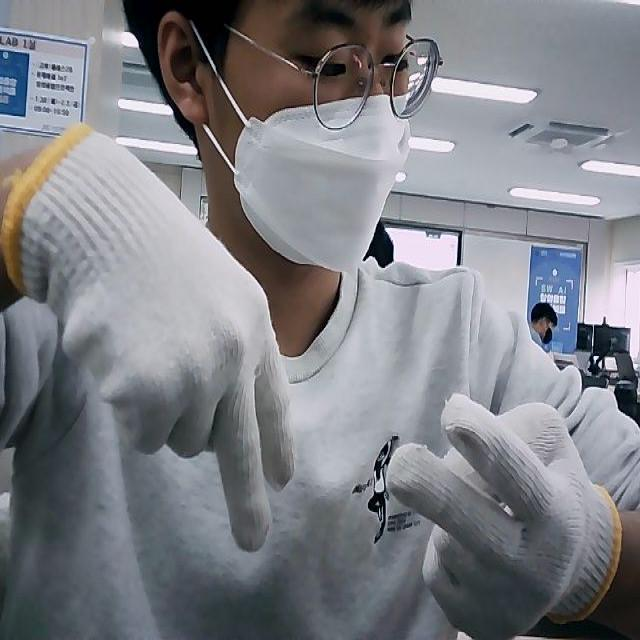gloves: (6, 124, 298, 551), (388, 394, 624, 640)
